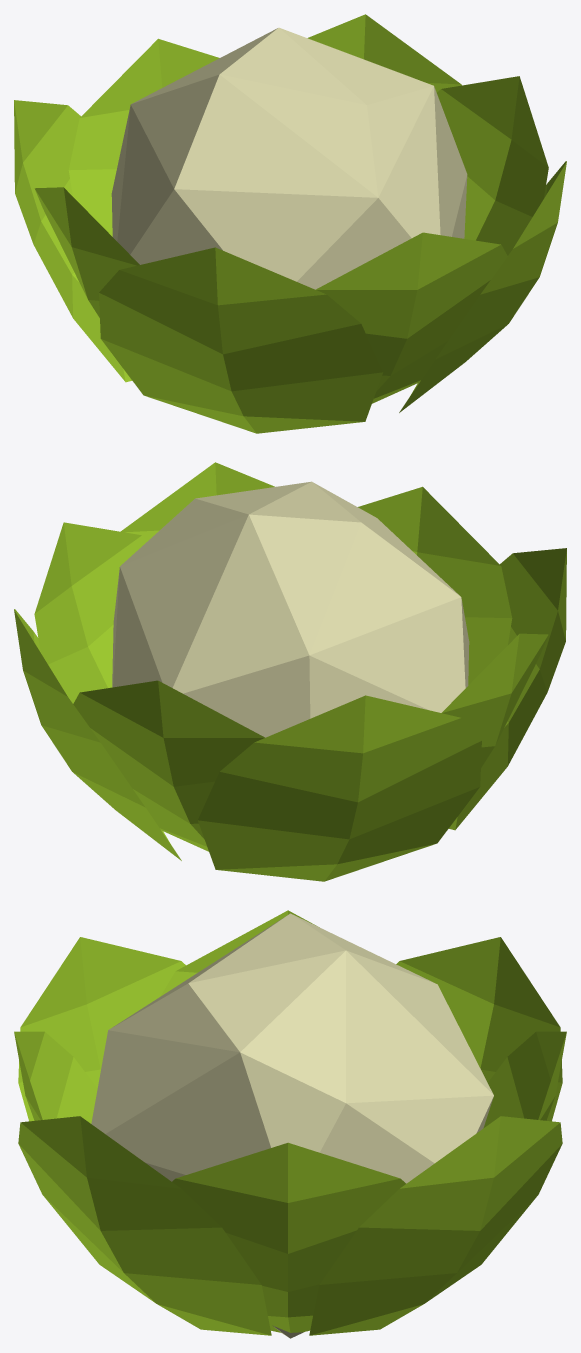
Rendered from Cabbage.fbx.
The picture shows the model from 3 angles, top to bottom: view 1: azimuth 30°, elevation 25°; view 2: azimuth 150°, elevation 25°; view 3: azimuth 270°, elevation 25°; orthographic projection. The views are drawn at different scales.
Visible parts, largest first — view 1: Cabbage; view 2: Cabbage; view 3: Cabbage.
Boxes of the visible parts, bbox=[...] form: Cabbage: bbox=[14, 14, 566, 433]; Cabbage: bbox=[14, 462, 566, 881]; Cabbage: bbox=[14, 910, 566, 1338].
Bounding box in the file's own units: 0.6497 × 0.4576 × 0.6533.
